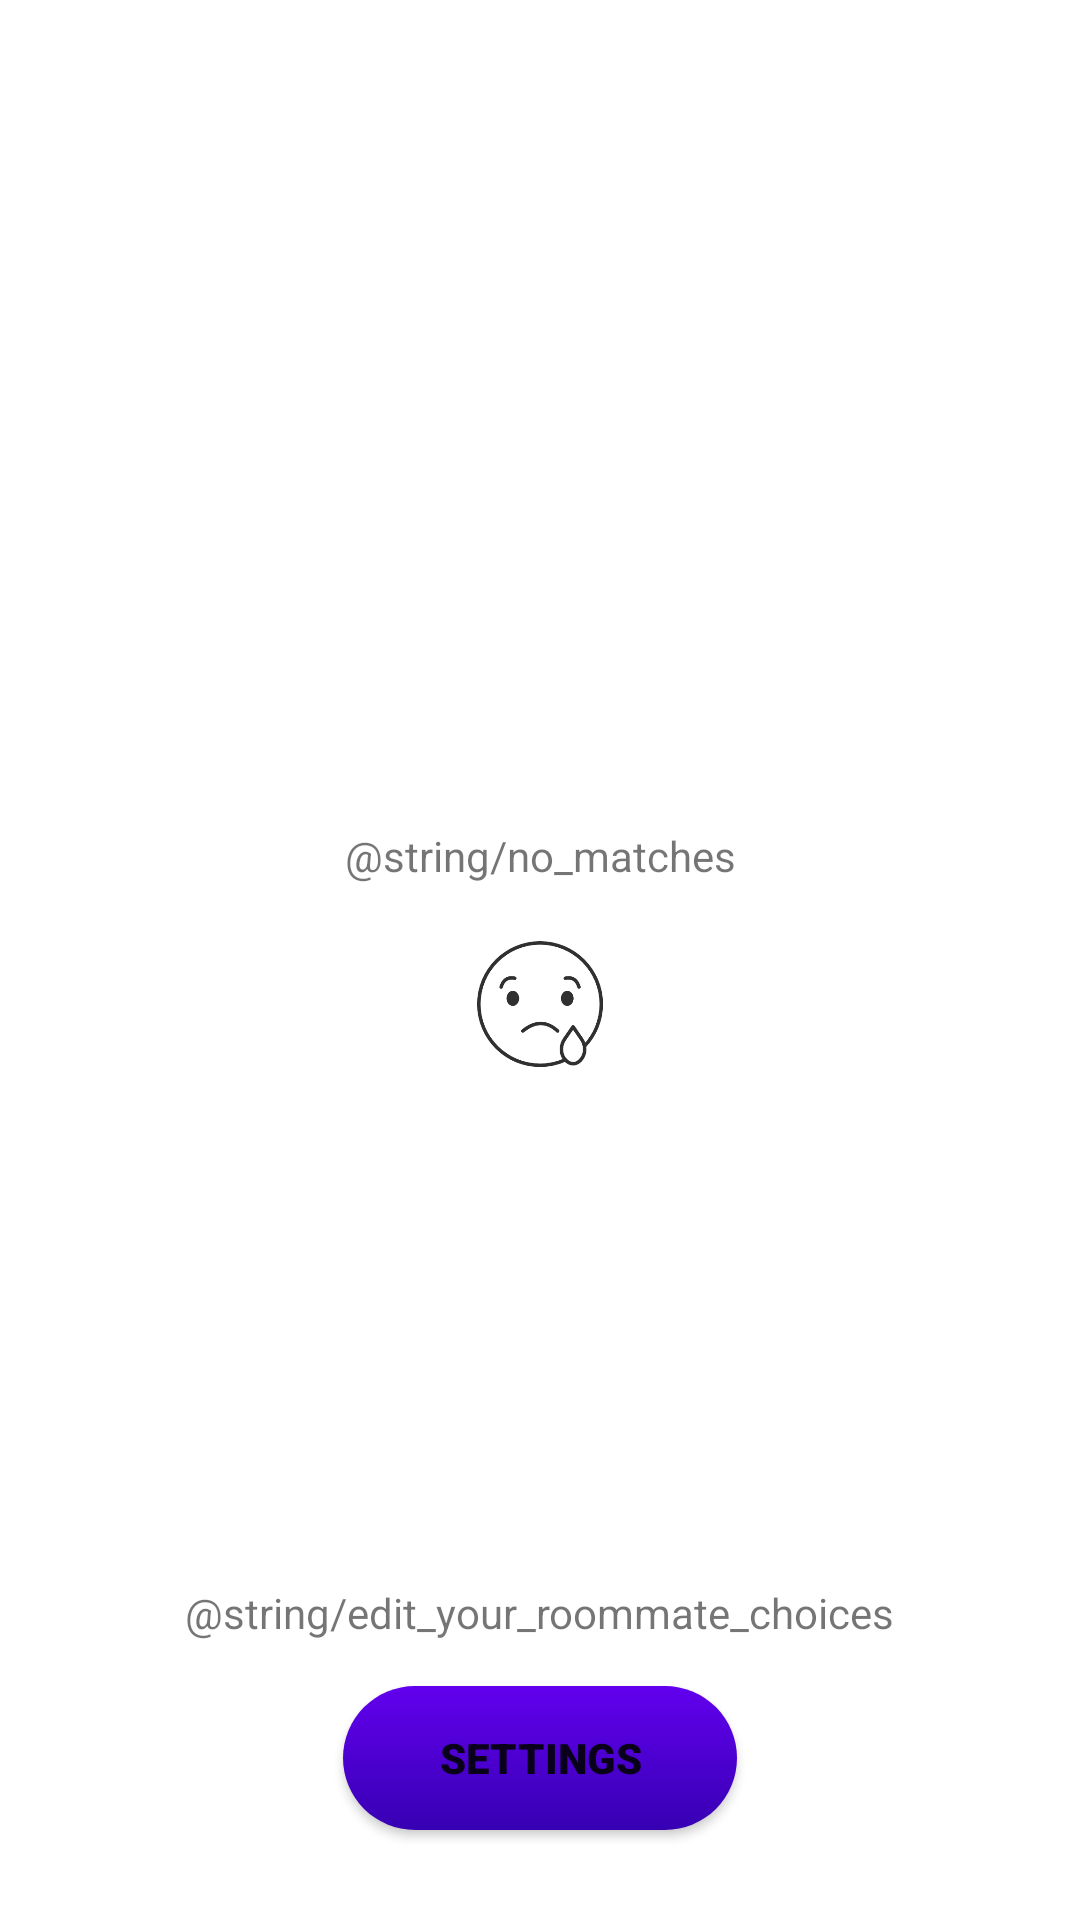

Icons on this 1080 x 1920 Android screen, each with the point to tap as (x=x, y=y):
sad emoji: (x=540, y=1004)
